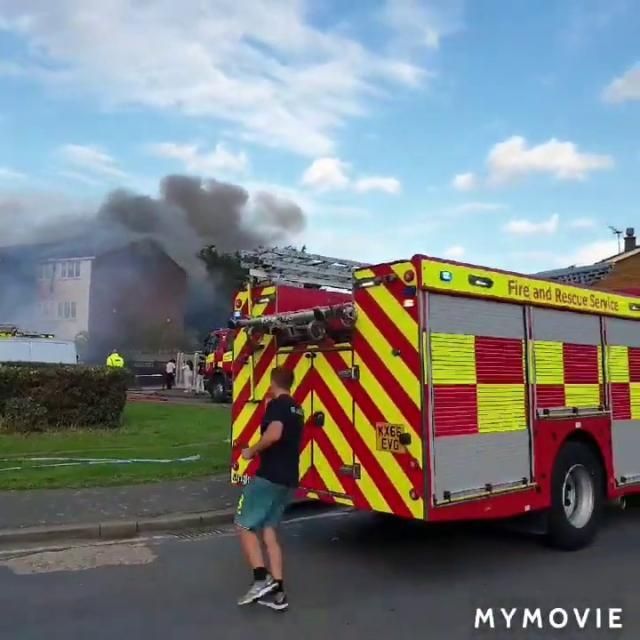Smoke: (0, 163, 226, 354), (97, 162, 309, 260)
